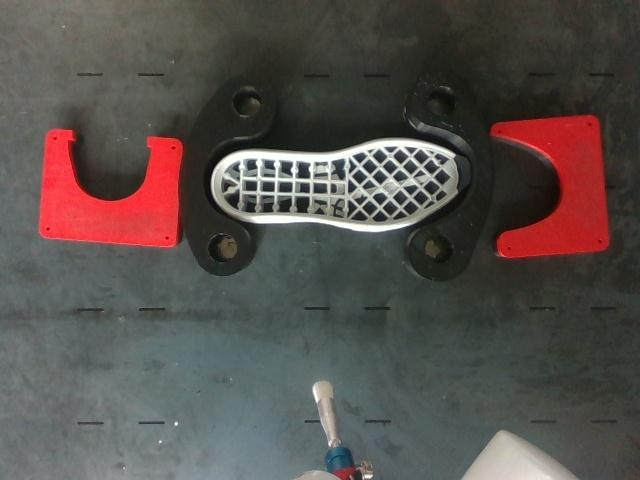shoes: (213, 141, 470, 226)
